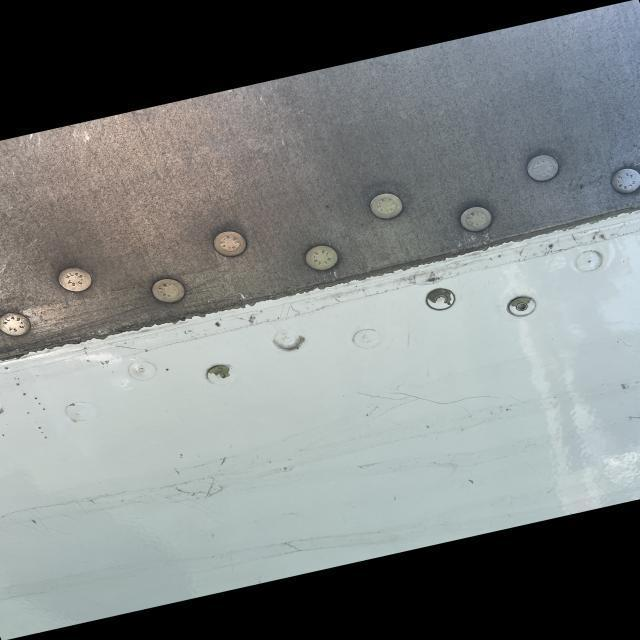crack: (356, 385, 522, 421)
